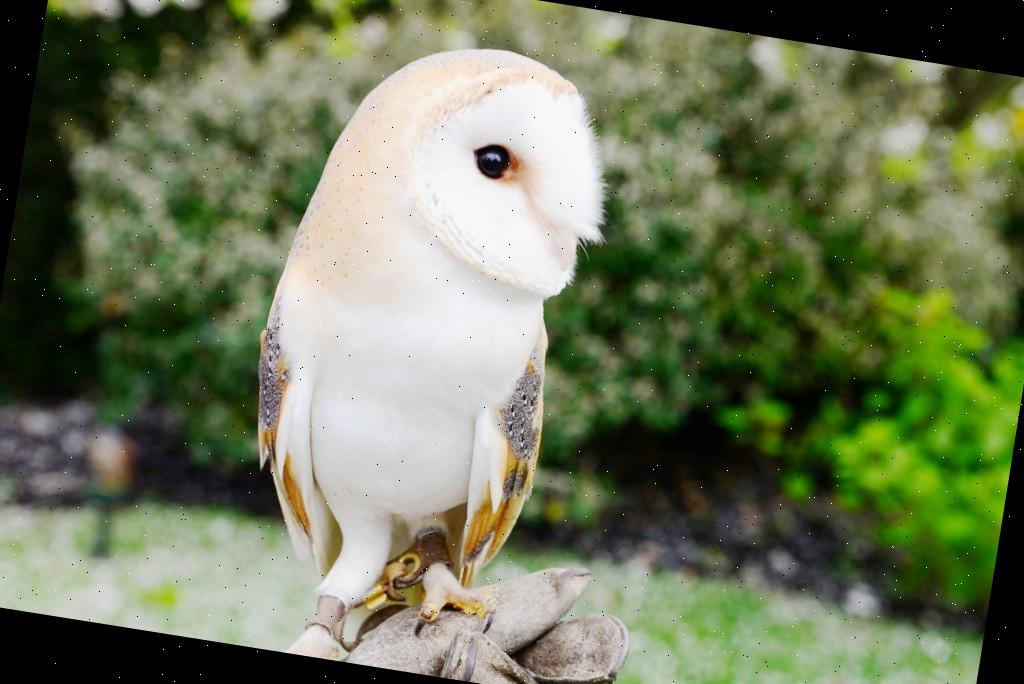Owl: (216, 25, 617, 684)
